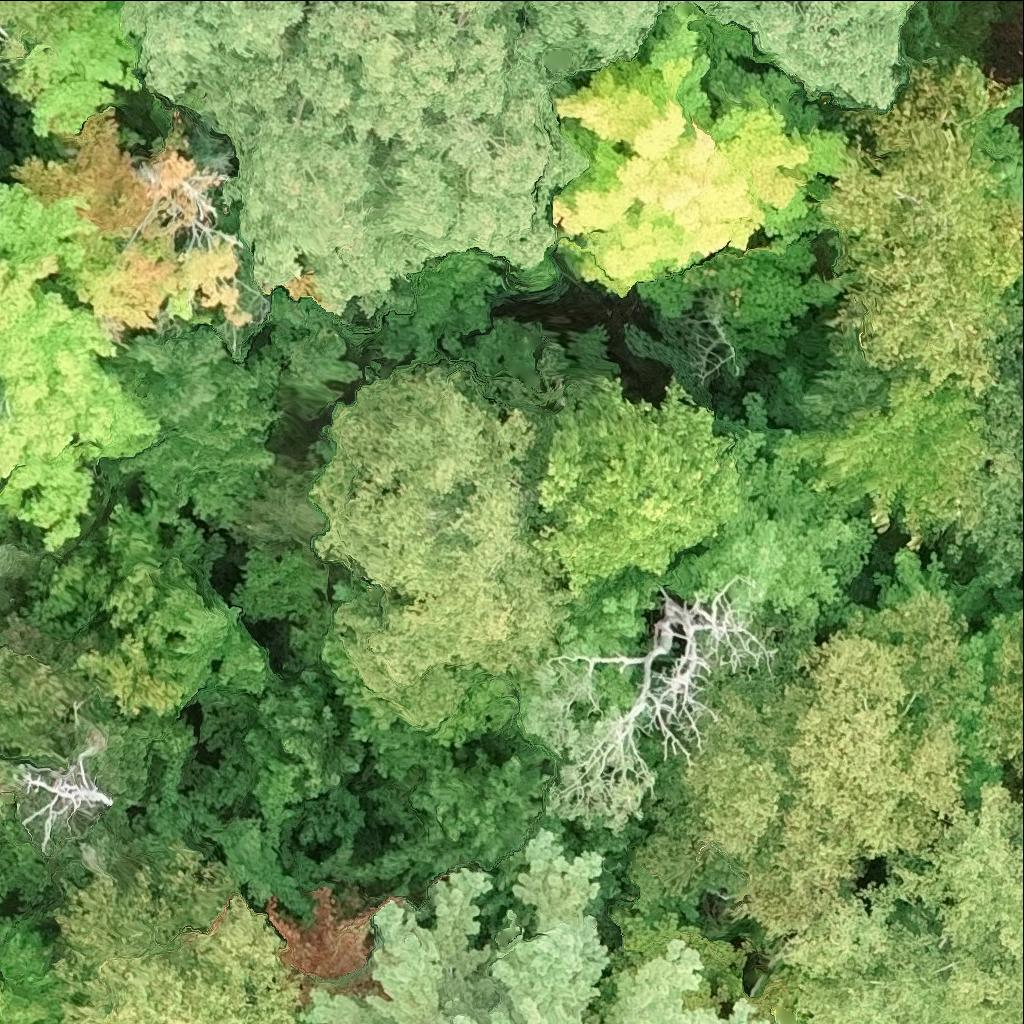crown: (133, 0, 582, 308), (670, 596, 964, 949), (511, 2, 851, 289), (319, 370, 571, 724), (316, 834, 754, 1023), (0, 184, 160, 545), (25, 487, 265, 722), (19, 110, 251, 346), (532, 600, 768, 824), (823, 62, 1023, 293), (58, 851, 305, 1023), (535, 382, 738, 587), (94, 328, 282, 528), (777, 364, 991, 539), (881, 789, 1023, 1023), (375, 753, 565, 906), (787, 894, 957, 1023), (851, 259, 1010, 393), (8, 0, 148, 137), (365, 251, 504, 361), (0, 647, 99, 770), (7, 746, 115, 852), (0, 928, 97, 1023), (232, 538, 329, 617), (0, 0, 108, 62), (0, 786, 56, 905), (982, 629, 1023, 784), (247, 467, 324, 546), (458, 318, 546, 387), (0, 544, 46, 583), (0, 760, 17, 786), (0, 966, 4, 1016)
